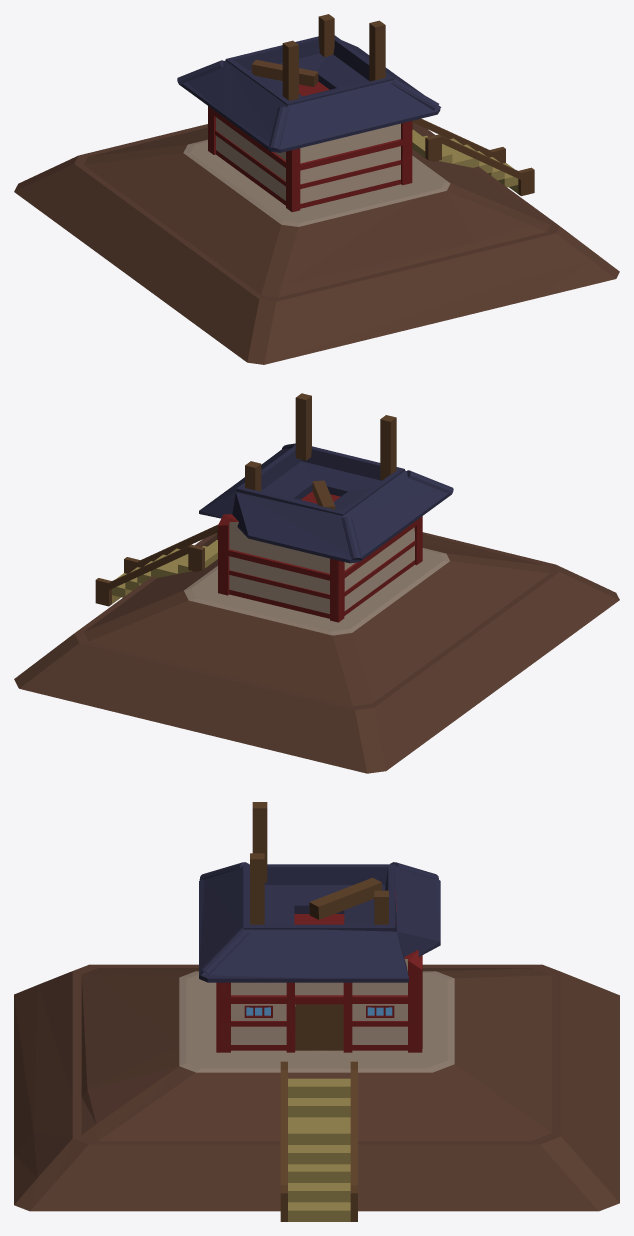
File: TorreQuemada.glb
The picture shows the model from 3 angles, top to bottom: view 1: azimuth 30°, elevation 25°; view 2: azimuth 150°, elevation 25°; view 3: azimuth 270°, elevation 25°; orthographic projection. The views are drawn at different scales.
Parts seen in each view (by area): view 1: torre quemada; view 2: torre quemada; view 3: torre quemada.
Boxes of the visible parts, box(x1,y1,x2,y2) form: torre quemada: box(14, 14, 619, 364); torre quemada: box(14, 393, 619, 773); torre quemada: box(14, 802, 619, 1221).
Size of the model in its own units: 15.56 by 8.27 by 17.1.
